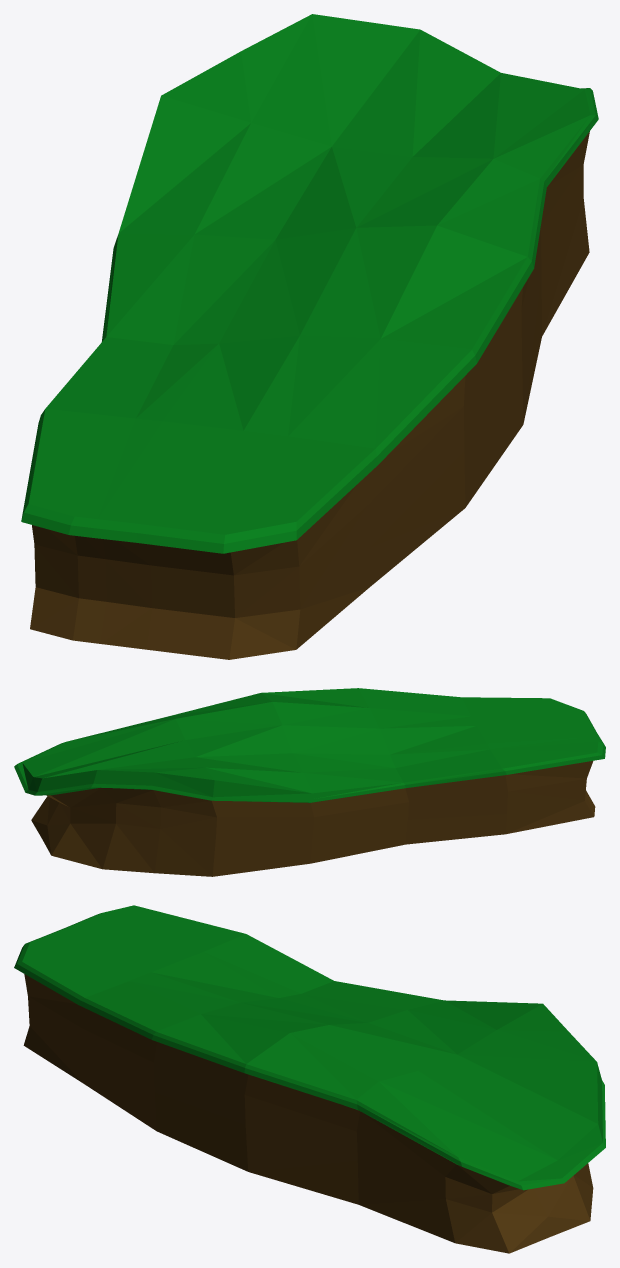
Rendered from Grondstuk_4.fbx.
The picture shows the model from 3 angles, top to bottom: view 1: azimuth 30°, elevation 25°; view 2: azimuth 150°, elevation 25°; view 3: azimuth 270°, elevation 25°; orthographic projection. The views are drawn at different scales.
Visible parts, largest first — view 1: Grondstuk_4; view 2: Grondstuk_4; view 3: Grondstuk_4.
Boxes of the visible parts, x1,y1,x2,y2 form: Grondstuk_4: (21,14,598,659); Grondstuk_4: (14,688,605,876); Grondstuk_4: (14,905,605,1253).
Bounding box in the file's own units: 25.05 × 5.47 × 22.66.
